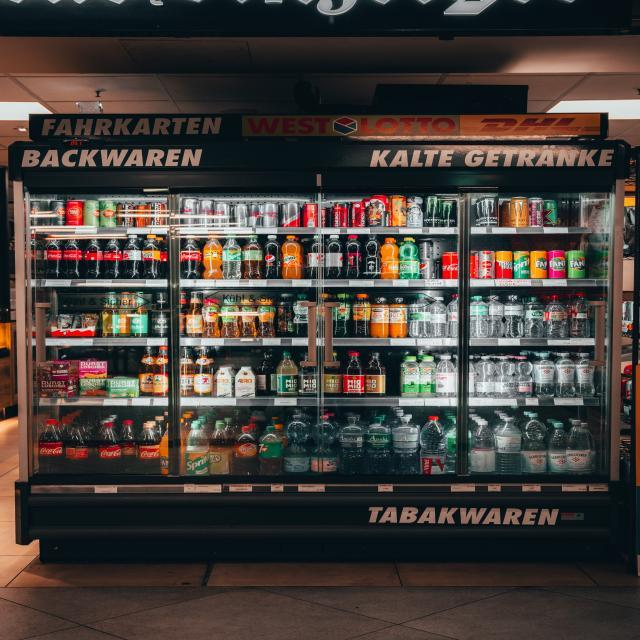Imprecise: (68, 360, 109, 400), (542, 195, 562, 228)
